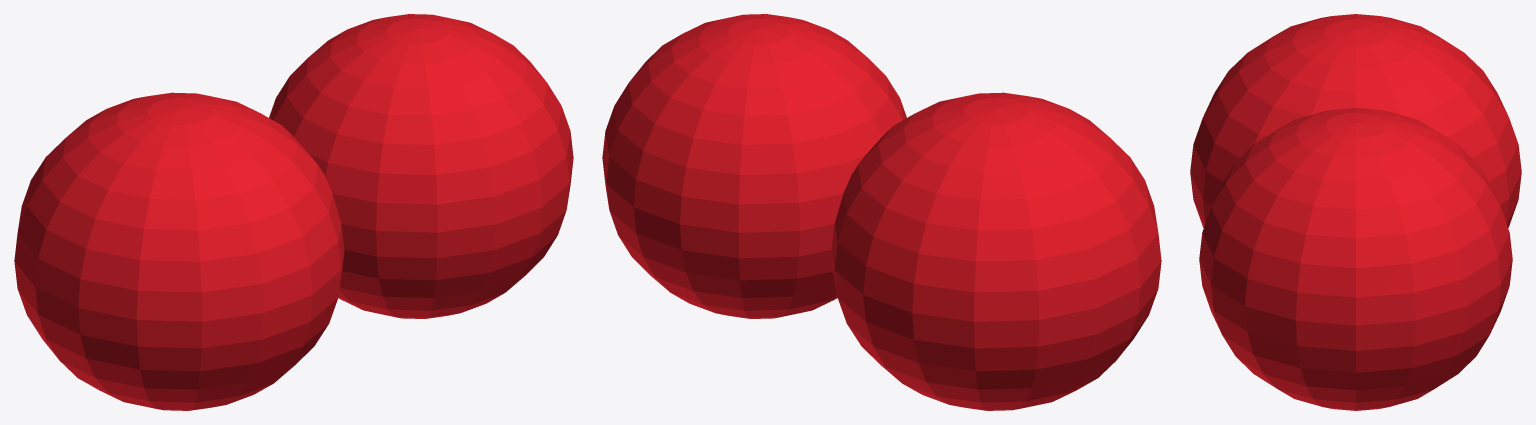
The model's file is Cherry.obj.
The picture shows the model from 3 angles, left to right: view 1: azimuth 30°, elevation 25°; view 2: azimuth 150°, elevation 25°; view 3: azimuth 270°, elevation 25°; orthographic projection.
Visible parts, largest first — view 1: Cherry; view 2: Cherry; view 3: Cherry.
Part boxes in pixels (x1=…): Cherry: x1=14, y1=14, x2=573, y2=410; Cherry: x1=602, y1=14, x2=1161, y2=410; Cherry: x1=1190, y1=14, x2=1521, y2=410.
Size of the model in its own units: 1.97 by 1.12 by 1.1.
